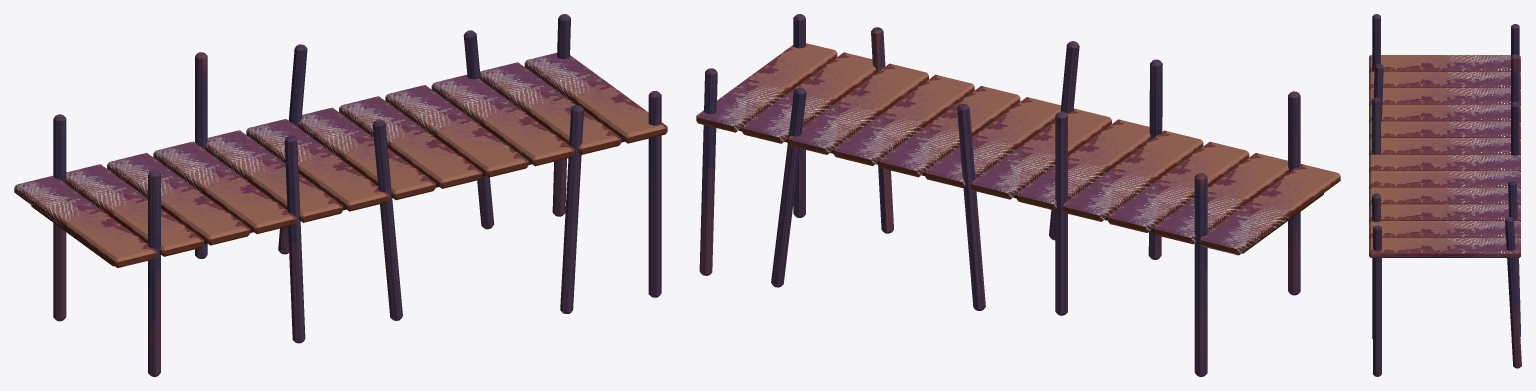
The model's file is PierTextured.fbx.
The picture shows the model from 3 angles, left to right: view 1: azimuth 30°, elevation 25°; view 2: azimuth 150°, elevation 25°; view 3: azimuth 270°, elevation 25°; orthographic projection. The views are drawn at different scales.
Visible parts, largest first — view 1: Wood Pieces, Cylinder; view 2: Wood Pieces, Cylinder; view 3: Wood Pieces, Cylinder.
Boxes of the visible parts, <box> form: Wood Pieces: <box>14,52,667,267</box>; Cylinder: <box>31,14,661,376</box>; Wood Pieces: <box>696,43,1340,255</box>; Cylinder: <box>699,14,1323,376</box>; Wood Pieces: <box>1369,55,1520,257</box>; Cylinder: <box>1372,14,1521,376</box>.
Bounding box in the file's own units: 2620 × 1183 × 856.
3 materials, 3 textured.
